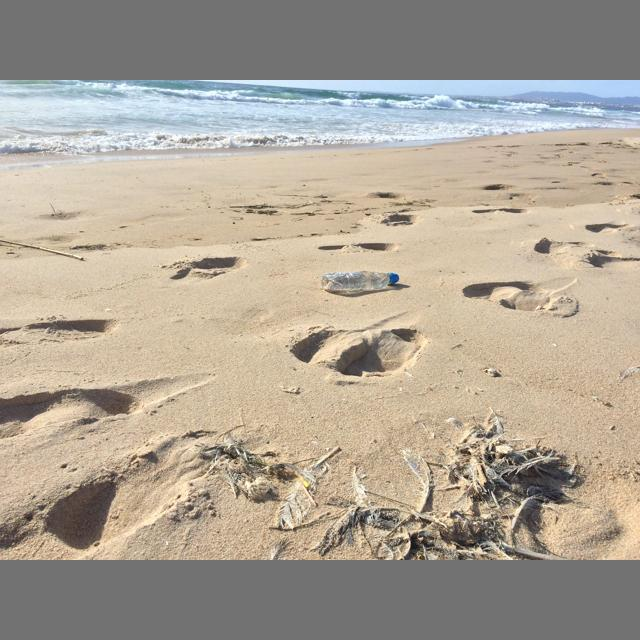litter: (321, 271, 399, 291), (293, 469, 309, 487), (390, 273, 399, 284)
